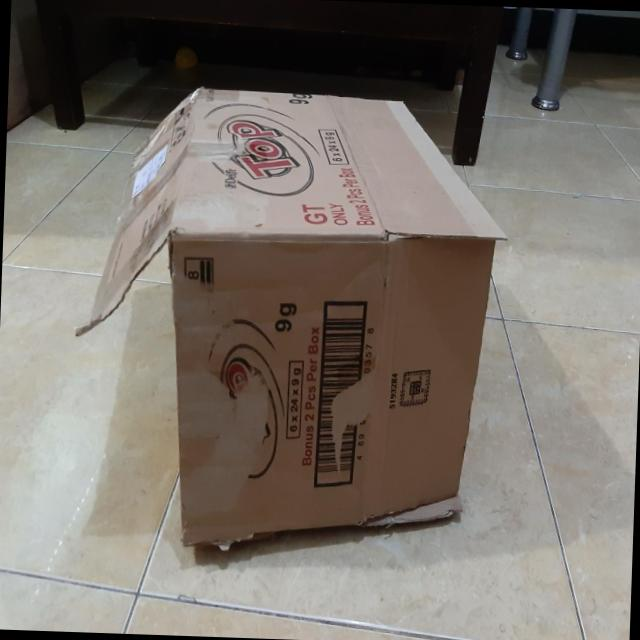Kardus: (66, 80, 512, 560)
